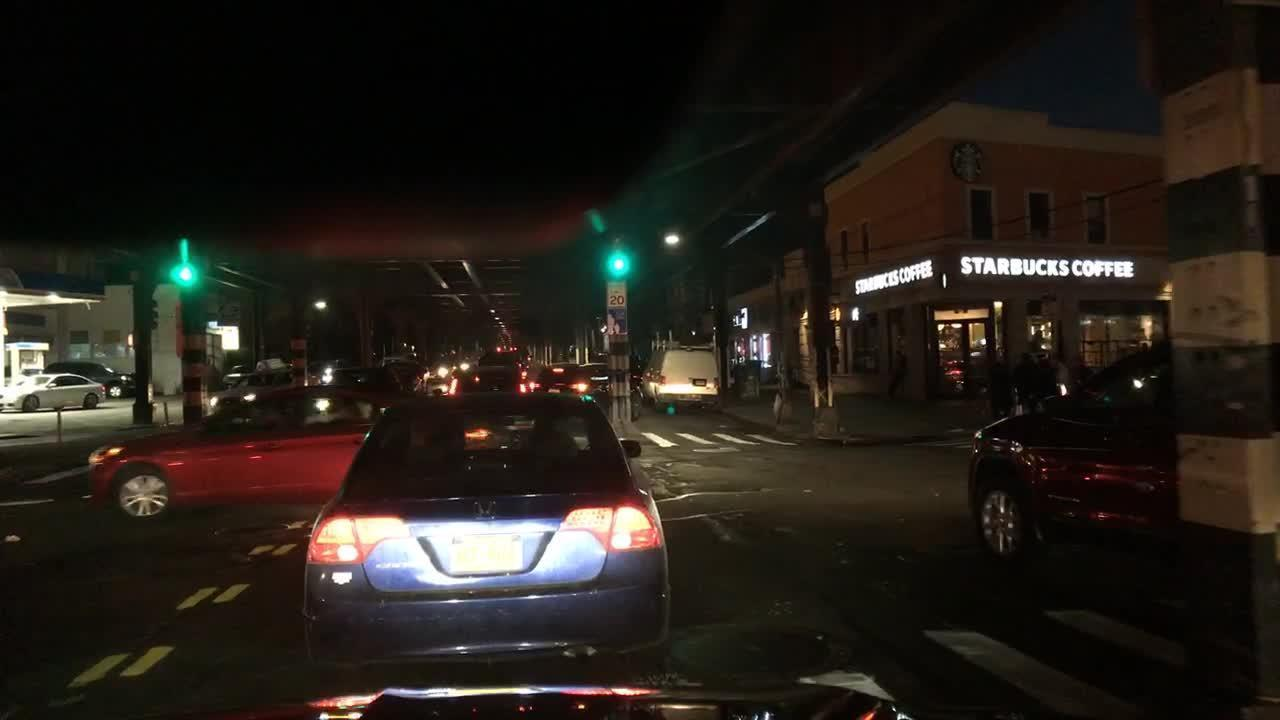Honda: (467, 497, 503, 530)
